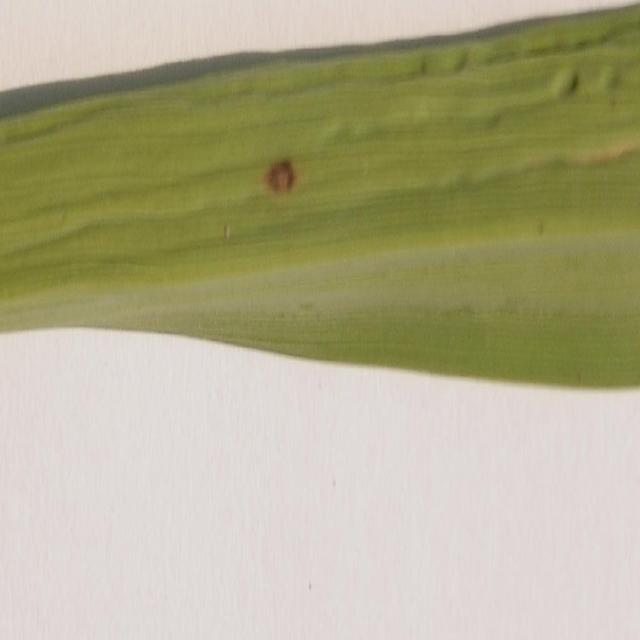Brown_Spot: (249, 140, 304, 234)
